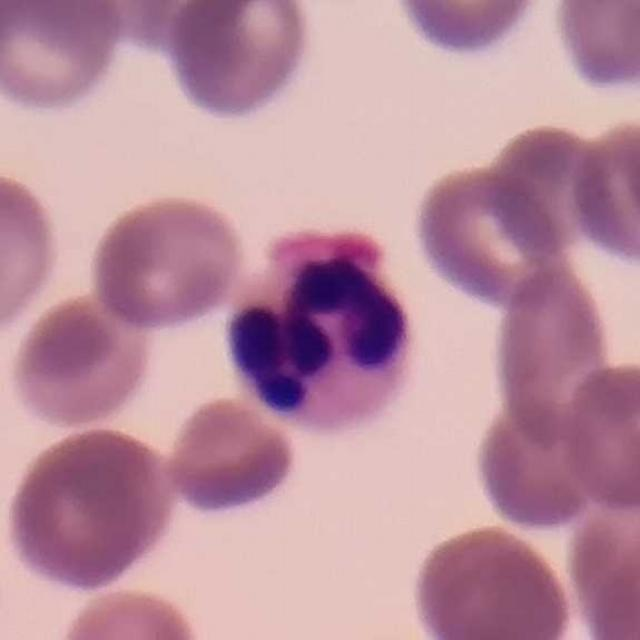Neutrophil: (221, 222, 428, 448)
RBC: (1, 423, 178, 594), (408, 158, 568, 312), (85, 189, 249, 334), (490, 262, 618, 444), (4, 286, 157, 432), (408, 521, 576, 640), (476, 122, 611, 268), (162, 0, 318, 126), (470, 396, 601, 536), (162, 393, 300, 519), (0, 0, 129, 118), (556, 358, 640, 515), (562, 472, 640, 640), (565, 112, 640, 274), (0, 162, 66, 340), (386, 0, 551, 61), (548, 0, 640, 104), (53, 582, 207, 640), (9, 0, 177, 48), (579, 553, 640, 639)
